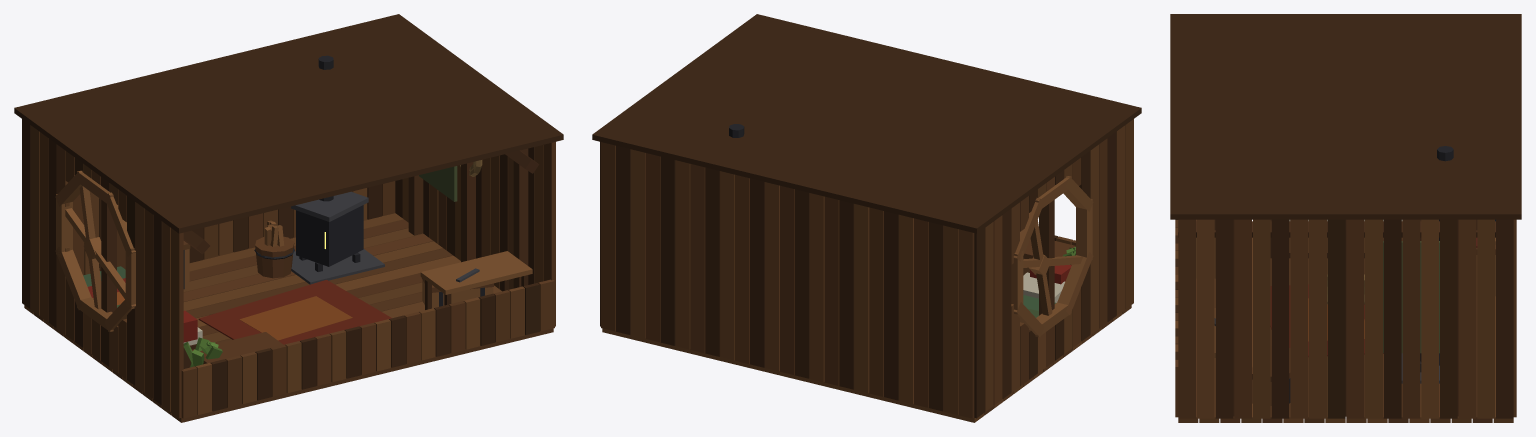
Rendered from cabin_a.glb.
The picture shows the model from 3 angles, left to right: view 1: azimuth 30°, elevation 25°; view 2: azimuth 150°, elevation 25°; view 3: azimuth 270°, elevation 25°; orthographic projection. The views are drawn at different scales.
Visible parts, largest first — view 1: cabin_a_ceiling, cabin_a_rug, cabin_a_stove_body, cabin_a_workbench_top, cabin_a_rug_inner, cabin_a_wallL_00_0, cabin_a_floor_plank_10, cabin_a_floor_plank_11, cabin_a_wallL_02_0, cabin_a_wallL_16_0, cabin_a_wallL_15_0, cabin_a_wallL_03_0 (+71 smaller); view 2: cabin_a_ceiling, cabin_a_wallB_00_0, cabin_a_wallB_02_0, cabin_a_wallB_07_0, cabin_a_wallB_08_0, cabin_a_wallB_10_0, cabin_a_wallB_11_0, cabin_a_wallB_17_0, cabin_a_wallB_21_0, cabin_a_wallB_01_0, cabin_a_wallB_09_0, cabin_a_wallB_18_0 (+34 smaller); view 3: cabin_a_ceiling, cabin_a_wallR_06_0, cabin_a_wallR_08_0, cabin_a_wallR_09_0, cabin_a_wallR_11_0, cabin_a_wallR_02_0, cabin_a_wallR_05_0, cabin_a_wallR_12_0, cabin_a_wallR_15_0, cabin_a_wallR_00_0, cabin_a_wallR_01_0, cabin_a_wallR_03_0 (+13 smaller).
Boxes of the visible parts, x1,y1,x2,y2 form: cabin_a_ceiling: (14, 14, 563, 233); cabin_a_rug: (198, 280, 391, 344); cabin_a_stove_body: (296, 205, 363, 266); cabin_a_workbench_top: (420, 251, 532, 294); cabin_a_rug_inner: (239, 296, 352, 340); cabin_a_wallL_00_0: (171, 228, 183, 418); cabin_a_floor_plank_10: (73, 248, 452, 350); cabin_a_floor_plank_11: (63, 241, 443, 343); cabin_a_wallL_02_0: (153, 215, 162, 405); cabin_a_wallL_16_0: (30, 125, 39, 315); cabin_a_wallL_15_0: (39, 132, 48, 321); cabin_a_wallL_03_0: (144, 209, 153, 398); cabin_a_ceiling: (592, 14, 1141, 233); cabin_a_wallB_00_0: (958, 229, 974, 418); cabin_a_wallB_02_0: (928, 222, 943, 411); cabin_a_wallB_07_0: (854, 204, 869, 393); cabin_a_wallB_08_0: (839, 200, 854, 389); cabin_a_wallB_10_0: (809, 193, 824, 382); cabin_a_wallB_11_0: (794, 189, 809, 378); cabin_a_wallB_17_0: (705, 167, 720, 356); cabin_a_wallB_21_0: (645, 153, 660, 342); cabin_a_wallB_01_0: (943, 225, 958, 414); cabin_a_wallB_09_0: (824, 196, 839, 385); cabin_a_wallB_18_0: (690, 164, 705, 353); cabin_a_ceiling: (1170, 14, 1521, 219); cabin_a_wallR_06_0: (1290, 219, 1308, 418); cabin_a_wallR_08_0: (1327, 219, 1345, 418); cabin_a_wallR_09_0: (1346, 219, 1364, 418); cabin_a_wallR_11_0: (1383, 219, 1401, 418); cabin_a_wallR_02_0: (1215, 219, 1233, 418); cabin_a_wallR_05_0: (1271, 219, 1289, 418); cabin_a_wallR_12_0: (1402, 219, 1420, 418); cabin_a_wallR_15_0: (1458, 219, 1476, 418); cabin_a_wallR_00_0: (1178, 219, 1195, 418); cabin_a_wallR_01_0: (1197, 219, 1214, 418); cabin_a_wallR_03_0: (1234, 219, 1251, 418).
Bounding box in the file's own units: 6.2 × 3.18 × 4.6.
